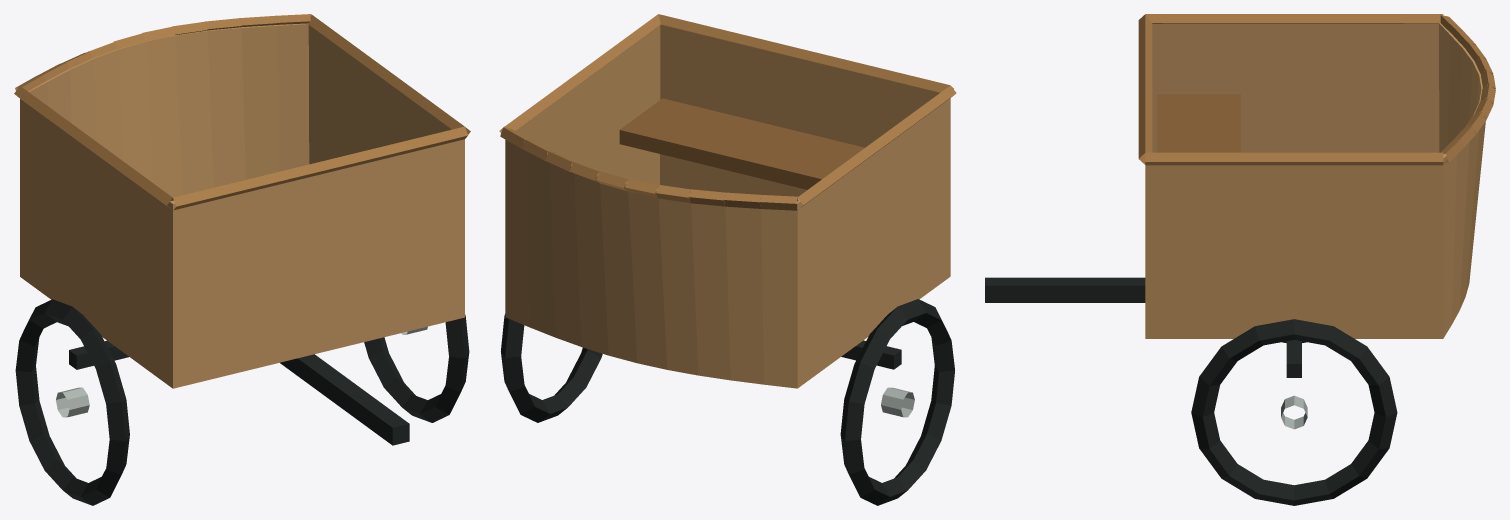
File: ladcykel-box.glb
3 renders of one model, left to right at view 1: azimuth 30°, elevation 25°; view 2: azimuth 150°, elevation 25°; view 3: azimuth 270°, elevation 25°, orthographic. The views are drawn at different scales.
Visible parts, largest first — view 1: box, Torus, Torus.001, Cylinder.012, Cube.001, Cylinder.011, Cylinder, Cylinder.013, Cube.002; view 2: box, Cube, Torus, Torus.001, Cylinder.012, Cylinder.011, Cylinder, Cylinder.013, Cube.002, Cylinder.010, Cylinder.009, Cylinder.008; view 3: box, Torus.001, Cube, Cube.001, Cylinder, Cylinder.011, Cylinder.012, Cube.002.
Part boxes in pixels (x1=…): box: x1=20, y1=23, x2=464, y2=388; Torus: x1=15, y1=299, x2=129, y2=505; Torus.001: x1=364, y1=314, x2=469, y2=422; Cylinder.012: x1=170, y1=126, x2=468, y2=210; Cube.001: x1=280, y1=354, x2=409, y2=445; Cylinder.011: x1=14, y1=86, x2=172, y2=207; Cylinder: x1=307, y1=15, x2=470, y2=134; Cylinder.013: x1=56, y1=387, x2=89, y2=417; Cube.002: x1=69, y1=340, x2=128, y2=369; box: x1=505, y1=25, x2=950, y2=388; Cube: x1=619, y1=98, x2=864, y2=189; Torus: x1=840, y1=299, x2=954, y2=505; Torus.001: x1=501, y1=314, x2=602, y2=422; Cylinder.012: x1=658, y1=14, x2=953, y2=92; Cylinder.011: x1=797, y1=85, x2=956, y2=207; Cylinder: x1=499, y1=14, x2=660, y2=132; Cylinder.013: x1=881, y1=387, x2=914, y2=417; Cube.002: x1=841, y1=340, x2=901, y2=369; Cylinder.010: x1=760, y1=195, x2=798, y2=210; Cylinder.009: x1=724, y1=192, x2=761, y2=208; Cylinder.008: x1=689, y1=189, x2=725, y2=206; box: x1=1145, y1=23, x2=1487, y2=338; Torus.001: x1=1191, y1=319, x2=1397, y2=505; Cube: x1=1157, y1=94, x2=1240, y2=152; Cube.001: x1=985, y1=277, x2=1145, y2=302; Cylinder: x1=1145, y1=152, x2=1443, y2=165; Cylinder.011: x1=1145, y1=14, x2=1443, y2=23; Cylinder.012: x1=1138, y1=14, x2=1152, y2=164; Cube.002: x1=1286, y1=340, x2=1301, y2=377.
Bounding box in the file's own units: 1.06 × 0.988 × 1.34.
